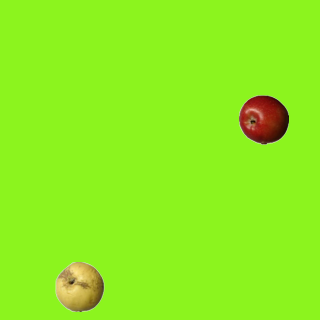Apple Braeburn: (238, 94, 288, 144)
Apple Golden 1: (54, 261, 104, 311)
